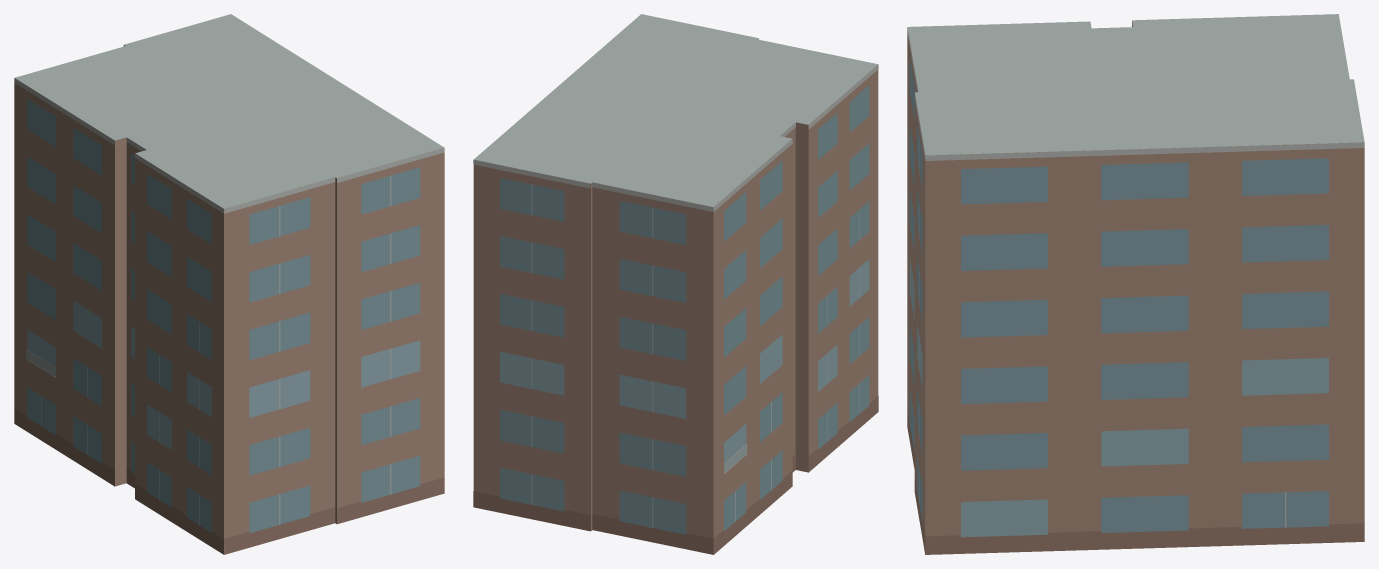
File: survey-upis-32726835.glb
3 renders of one model, left to right at view 1: azimuth 30°, elevation 25°; view 2: azimuth 150°, elevation 25°; view 3: azimuth 270°, elevation 25°, orthographic. The views are drawn at different scales.
Visible parts, largest first — view 1: survey-upis-32726835.tmp; view 2: survey-upis-32726835.tmp; view 3: survey-upis-32726835.tmp.
Part boxes in pixels (x1,y1,x2,y2): survey-upis-32726835.tmp: (14, 14, 444, 554); survey-upis-32726835.tmp: (473, 14, 878, 554); survey-upis-32726835.tmp: (907, 14, 1364, 554).
Bounding box in the file's own units: 13.3 × 17.5 × 18.17.
